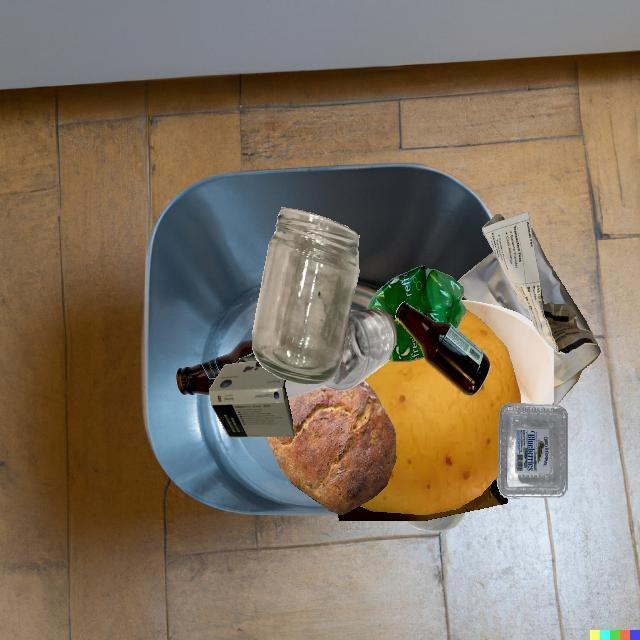biowaste: (360, 309, 521, 515), (265, 379, 396, 515)
cardboard: (338, 479, 508, 521), (209, 361, 294, 437)
combustible waste: (461, 300, 554, 405)
glass: (252, 207, 359, 384), (284, 309, 396, 399), (395, 302, 490, 396), (176, 340, 254, 395)
paper: (482, 212, 597, 354), (473, 260, 554, 401)
plastic: (367, 265, 466, 362), (498, 402, 568, 499), (405, 512, 466, 532)
